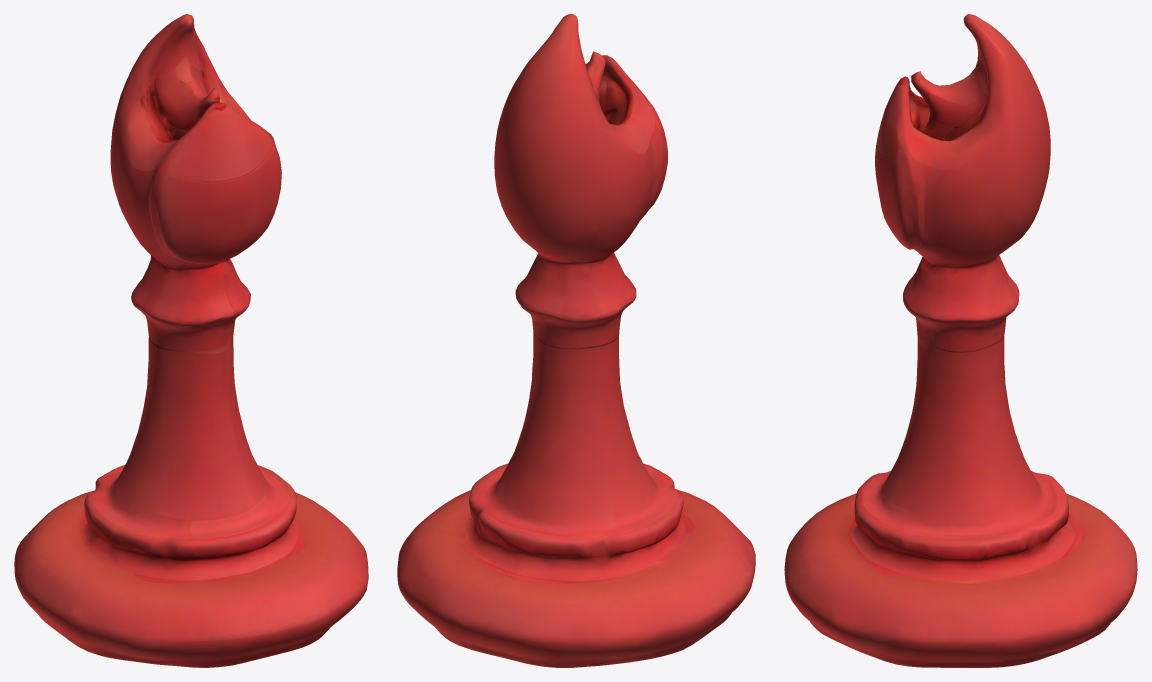
Rendered from red-fire-piece.glb.
The picture shows the model from 3 angles, left to right: view 1: azimuth 30°, elevation 25°; view 2: azimuth 150°, elevation 25°; view 3: azimuth 270°, elevation 25°; orthographic projection.
Size of the model in its own units: 1.08 by 2 by 1.08.
Materials: 1 (1 with a texture image).
